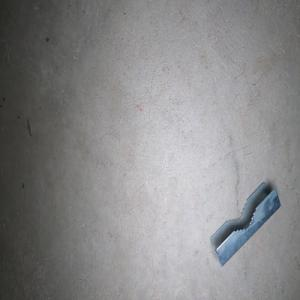ClampPart: (209, 180, 281, 268)
